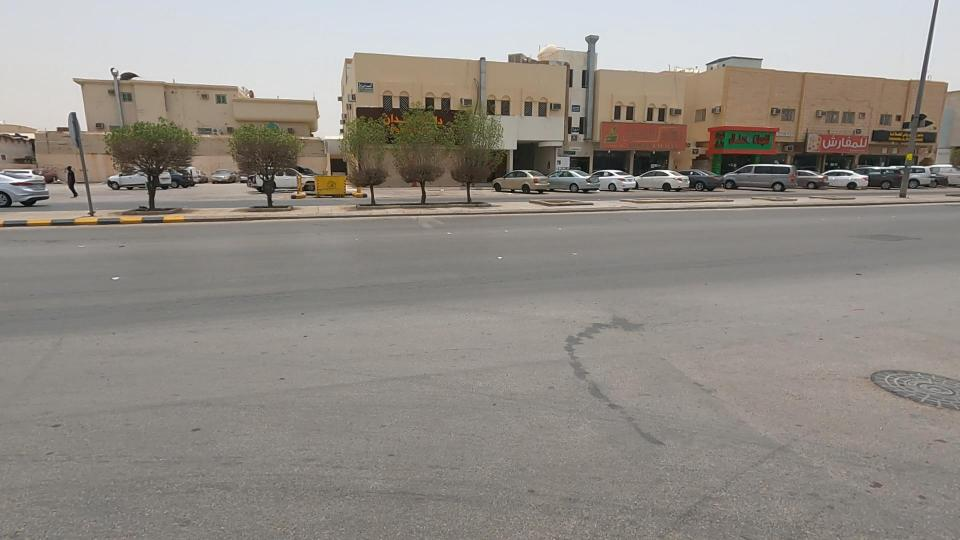BAD_BILLBOARD: (555, 90, 730, 184)
